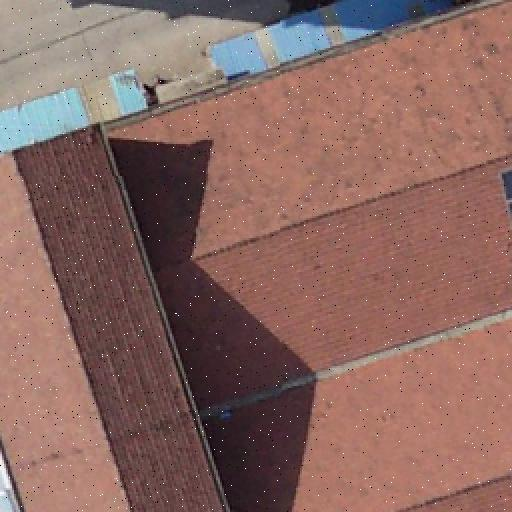solar-panel: (497, 172, 511, 224)
